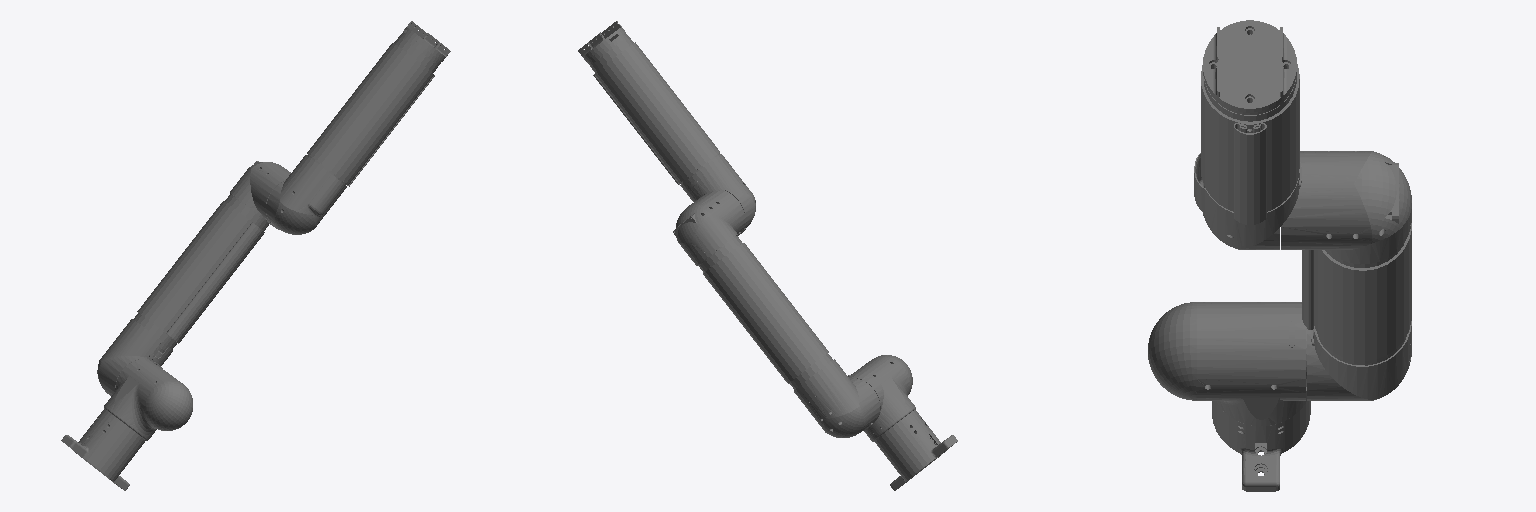
URDF robot description (protac):
<?xml version="1.0" ?>
<!-- =================================================================================== -->
<!-- |    This document was autogenerated by xacro from protac.urdf.xacro              | -->
<!-- |    EDITING THIS FILE BY HAND IS NOT RECOMMENDED                                 | -->
<!-- =================================================================================== -->
<robot name="protac">
  <material name="black">
    <color rgba="0.0 0.0 0.0 1.0"/>
  </material>
  <material name="white">
    <color rgba="1.0 1.0 1.0 1.0"/>
  </material>
  <material name="red">
    <color rgba="0.8 0.0 0.0 1.0"/>
  </material>
  <material name="blue">
    <color rgba="0.0 0.0 0.8 1.0"/>
  </material>
  <material name="green">
    <color rgba="0.0 0.8 0.0 1.0"/>
  </material>
  <material name="grey">
    <color rgba="0.5 0.5 0.5 1.0"/>
  </material>
  <link name="world"/>
  <link name="base_link">
    <inertial>
      <origin rpy="0 0 0" xyz="-4.0682e-11 5.8587e-06 0.05729"/>
      <mass value="0.005"/>
      <inertia ixx="9.4e-05" ixy="-0.0" ixz="0.0" iyy="5.5e-05" iyz="0.0" izz="8.2e-05"/>
    </inertial>
    <visual>
      <origin rpy="0 0 0" xyz="0 0 0"/>
      <geometry>
        <mesh filename="package://protac_description/meshes/base_link.STL"/>
      </geometry>
      <material name="grey"/>
    </visual>
    <collision>
      <origin rpy="0 0 0" xyz="0 0 0"/>
      <geometry>
        <mesh filename="package://protac_description/meshes/base_link.STL"/>
      </geometry>
    </collision>
  </link>
  <link name="link_1">
    <inertial>
      <origin rpy="0 0 0" xyz="-4.2889e-11 0.0036799 0.032082"/>
      <mass value="0.005"/>
      <inertia ixx="3e-06" ixy="-0.0" ixz="-0.0" iyy="1e-06" iyz="0.0" izz="4e-06"/>
    </inertial>
    <visual>
      <origin rpy="0 0 0" xyz="0 0 0"/>
      <geometry>
        <mesh filename="package://protac_description/meshes/link1.STL"/>
      </geometry>
      <material name="grey"/>
    </visual>
    <collision>
      <origin rpy="0 0 0" xyz="0 0 0"/>
      <geometry>
        <mesh filename="package://protac_description/meshes/link1.STL"/>
      </geometry>
    </collision>
  </link>
  <link name="link_2">
    <inertial>
      <origin rpy="0 0 0" xyz="4.0646e-05 -0.28131 -0.0044042"/>
      <mass value="0.005"/>
      <inertia ixx="9.4e-05" ixy="0.0" ixz="-0.0" iyy="8.2e-05" iyz="0.0" izz="5.5e-05"/>
    </inertial>
    <visual>
      <origin rpy="0 0 0" xyz="0 0 0"/>
      <geometry>
        <mesh filename="package://protac_description/meshes/link2.STL"/>
      </geometry>
      <material name="grey"/>
    </visual>
    <collision>
      <origin rpy="0 0 0" xyz="0 0 0"/>
      <geometry>
        <mesh filename="package://protac_description/meshes/link2.STL"/>
      </geometry>
    </collision>
  </link>
  <link name="link_3">
    <inertial>
      <origin rpy="0 0 0" xyz="0.01294 3.5796e-05 0.025586"/>
      <mass value="0.005"/>
      <inertia ixx="3.2e-05" ixy="-0.0" ixz="0.0" iyy="2e-05" iyz="-0.0" izz="1.9e-05"/>
    </inertial>
    <visual>
      <origin rpy="0 0 0" xyz="0 0 0"/>
      <geometry>
        <mesh filename="package://protac_description/meshes/link3.STL"/>
      </geometry>
      <material name="grey"/>
    </visual>
    <collision>
      <origin rpy="0 0 0" xyz="0 0 0"/>
      <geometry>
        <mesh filename="package://protac_description/meshes/link3.STL"/>
      </geometry>
    </collision>
  </link>
  <link name="link_4">
    <inertial>
      <origin rpy="0 0 0" xyz="0.0052747 0.00023019 0.17217"/>
      <mass value="0.005"/>
      <inertia ixx="3.2e-05" ixy="-0.0" ixz="0.0" iyy="2e-05" iyz="-0.0" izz="1.9e-05"/>
    </inertial>
    <visual>
      <origin rpy="0 0 0" xyz="0 0 0"/>
      <geometry>
        <mesh filename="package://protac_description/meshes/link4.STL"/>
      </geometry>
      <material name="grey"/>
    </visual>
    <collision>
      <origin rpy="0 0 0" xyz="0 0 0"/>
      <geometry>
        <mesh filename="package://protac_description/meshes/link4.STL"/>
      </geometry>
    </collision>
  </link>
  <link name="eef_link">
    <inertial>
      <origin rpy="0 0 0" xyz="0.00105476762353651 -0.00054399845541328 -0.00395532957526007"/>
      <mass value="0.001"/>
      <inertia ixx="3.2e-05" ixy="-0.0" ixz="0.0" iyy="2e-05" iyz="-0.0" izz="1.9e-05"/>
    </inertial>
    <visual>
      <origin rpy="0 0 0" xyz="0 0 0"/>
      <geometry>
        <mesh filename="package://protac_description/meshes/eef_link.STL"/>
      </geometry>
      <material name="grey"/>
    </visual>
    <collision>
      <origin rpy="0 0 0" xyz="0 0 0"/>
      <geometry>
        <mesh filename="package://protac_description/meshes/eef_link.STL"/>
      </geometry>
    </collision>
  </link>
  <joint name="origin_to_base_link" type="fixed">
    <origin rpy="0 0.785398163 0" xyz="0 0 0"/>
    <parent link="world"/>
    <child link="base_link"/>
  </joint>
  <joint name="joint1" type="revolute">
    <origin rpy="-1.5707963267948966 0 0" xyz="0. 0. 0.159"/>
    <parent link="base_link"/>
    <child link="link_1"/>
    <axis xyz="0.0 -1.0 0.0"/>
    <limit effort="10" lower="-2.792526803190927" upper="2.792526803190927" velocity="2.9321531433504737"/>
    <dynamics damping="0.7" friction="0.7"/>
  </joint>
  <joint name="joint2" type="revolute">
    <origin rpy="0 0 0" xyz="0. 0. 0.092"/>
    <parent link="link_1"/>
    <child link="link_2"/>
    <axis xyz="0.0 0.0 1.0"/>
    <limit effort="44" lower="-2.792526803190927" upper="2.792526803190927" velocity="2.9321531433504737"/>
    <dynamics damping="0.7" friction="0.7"/>
  </joint>
  <joint name="joint3" type="revolute">
    <origin rpy="1.5707963267948966 0. 0." xyz="0. -0.4 -0.102"/>
    <parent link="link_2"/>
    <child link="link_3"/>
    <axis xyz="0.0 -1.0 0.0"/>
    <limit effort="25" lower="-2.792526803190927" upper="2.792526803190927" velocity="2.9321531433504737"/>
    <dynamics damping="0.7" friction="0.7"/>
  </joint>
  <joint name="joint4" type="revolute">
    <origin rpy="0 0 0" xyz="0. 0. 0.051"/>
    <parent link="link_3"/>
    <child link="link_4"/>
    <axis xyz="0.0 0.0 1.0"/>
    <limit effort="5" lower="-2.792526803190927" upper="2.792526803190927" velocity="2.9321531433504737"/>
    <dynamics damping="0.7" friction="0.7"/>
  </joint>
  <joint name="joint5" type="fixed">
    <origin rpy="0 0 0" xyz="0. 0. 0.31"/>
    <parent link="link_4"/>
    <child link="eef_link"/>
  </joint>
  <ros2_control name="protac_ros2_control" type="system">
    <hardware>
      <plugin>dynamixel_hardware/DynamixelHardware</plugin>
      <param name="usb_port">/dev/ttyUSB0</param>
      <param name="baud_rate">115200</param>
      <!-- <param name="use_dummy">true</param> -->
    </hardware>
    <joint name="joint1">
      <param name="id">1</param>
      <command_interface name="position"/>
      <command_interface name="velocity"/>
      <state_interface name="position"/>
      <state_interface name="velocity"/>
      <state_interface name="effort"/>
    </joint>
    <joint name="joint2">
      <param name="id">2</param>
      <command_interface name="position"/>
      <command_interface name="velocity"/>
      <state_interface name="position"/>
      <state_interface name="velocity"/>
      <state_interface name="effort"/>
    </joint>
    <joint name="joint3">
      <param name="id">3</param>
      <command_interface name="position"/>
      <command_interface name="velocity"/>
      <state_interface name="position"/>
      <state_interface name="velocity"/>
      <state_interface name="effort"/>
    </joint>
    <joint name="joint4">
      <param name="id">4</param>
      <command_interface name="position"/>
      <command_interface name="velocity"/>
      <state_interface name="position"/>
      <state_interface name="velocity"/>
      <state_interface name="effort"/>
    </joint>
  </ros2_control>
</robot>

--- Facts derived from the render (not from the file) ---
Views: 3 orthographic renders of the robot side by side, from view 1: azimuth 30°, elevation 25°; view 2: azimuth 150°, elevation 25°; view 3: azimuth 270°, elevation 25°.
Robot: protac — 7 links, 6 joints (4 revolute, 2 fixed); root link world; default pose: every joint at zero.
Visible links, largest first — view 1: link_2, link_4, link_1, link_3, base_link, eef_link; view 2: link_2, link_4, base_link, link_1, link_3, eef_link; view 3: link_2, link_1, link_4, eef_link, base_link, link_3.
Boxes of the visible links, box(x1,y1,x2,y2) form: link_2: box(97, 161, 290, 395); link_4: box(307, 32, 441, 186); link_1: box(104, 359, 192, 440); link_3: box(266, 155, 346, 234); base_link: box(61, 409, 145, 490); eef_link: box(403, 21, 450, 61); link_2: box(673, 190, 879, 437); link_4: box(587, 32, 719, 184); base_link: box(873, 410, 957, 490); link_1: box(848, 355, 915, 441); link_3: box(680, 154, 755, 233); eef_link: box(578, 21, 624, 61); link_2: box(1281, 151, 1411, 400); link_1: box(1148, 302, 1319, 425); link_4: box(1201, 32, 1299, 224); eef_link: box(1203, 20, 1296, 112); base_link: box(1212, 381, 1310, 491); link_3: box(1194, 153, 1301, 249).
Size in the robot's own frame: 0.7378 by 0.2397 by 0.7376 metres.
Meshes: 6 distinct files referenced, 6 mesh visuals loaded (6 binary STL).